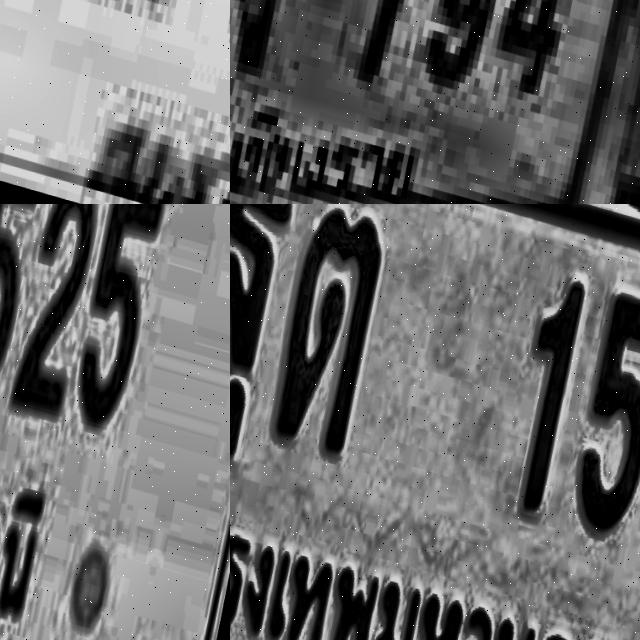license-plate: (230, 204, 640, 640), (0, 204, 230, 640), (230, 0, 640, 204), (0, 0, 230, 204)
